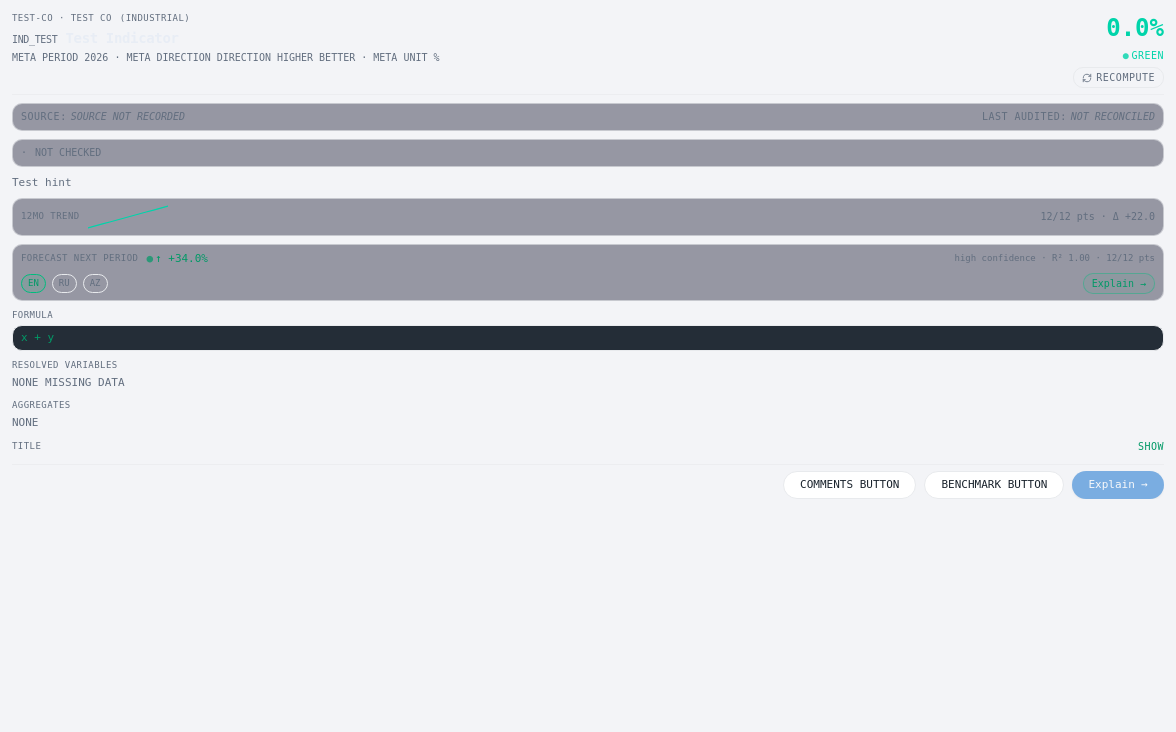
IndicatorDetail forecast explain panel (Phase C2 v2) › renders multi-step horizon strip when response includes horizon (sub-23)
Click the button with test id "forecast-explain-button".
click(1119, 284)  # box 1083,273 -> 1155,294
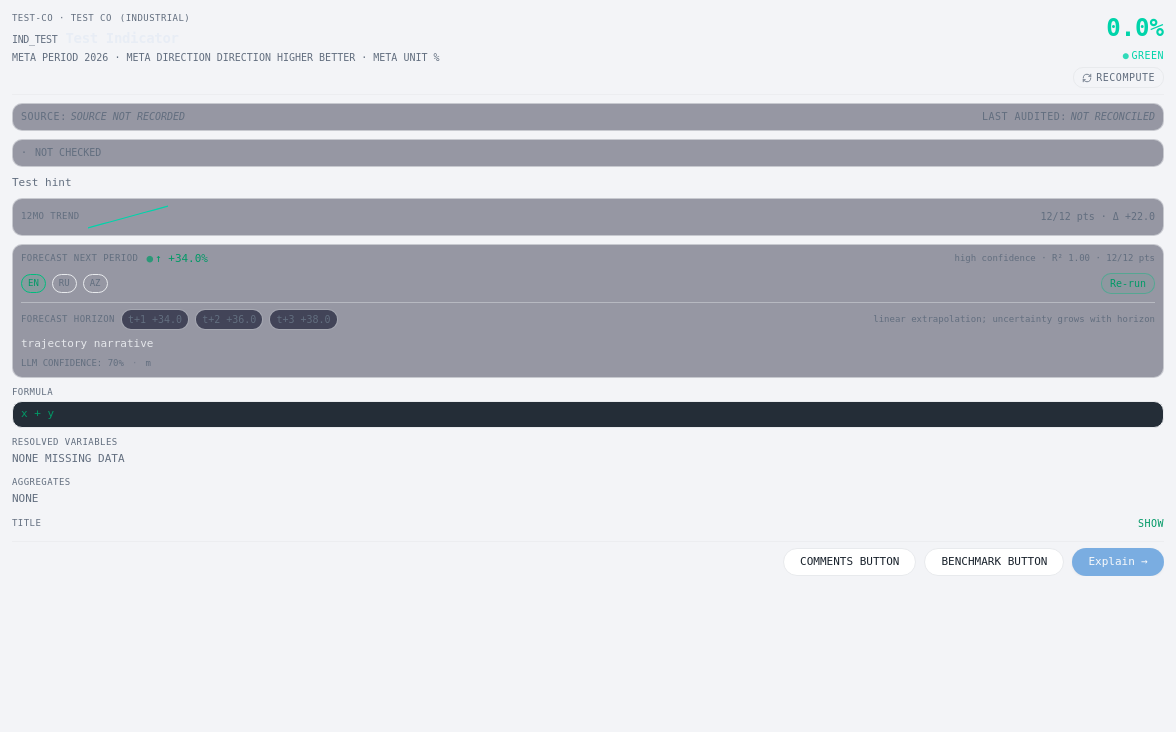
Now the element with test id "forecast-horizon" is shown, box 21,309 -> 1155,330
Now the element with test id "forecast-horizon-step-1" shows "+34", box 121,309 -> 189,330
Now the element with test id "forecast-horizon-step-2" shows "+36", box 195,309 -> 263,330
